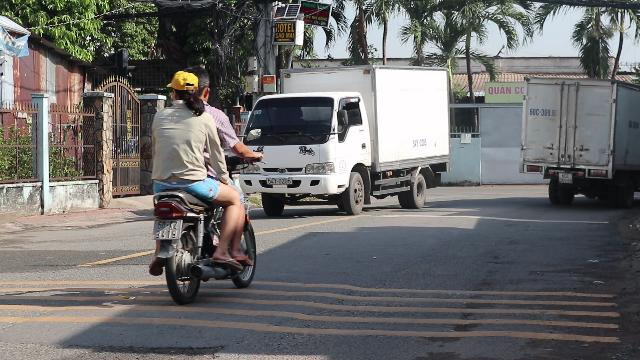licenseplate: (154, 221, 182, 239)
motorcyclist: (142, 70, 262, 303)
nohelmet: (163, 70, 200, 108)
